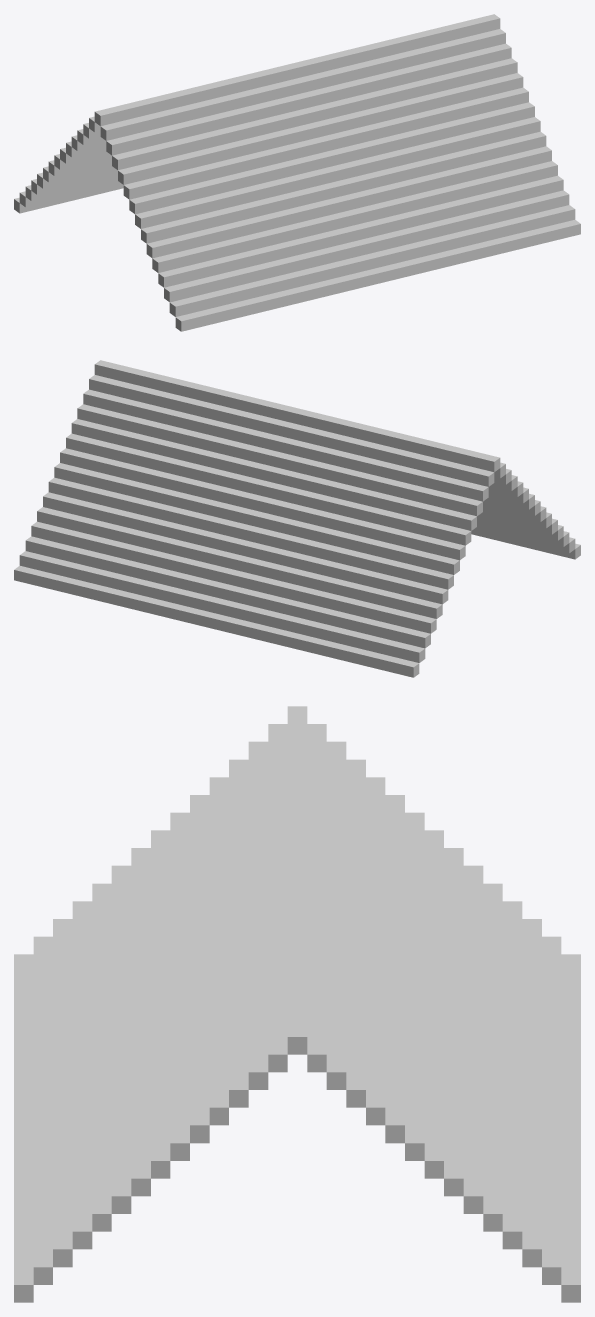
File: ConstructionMaterials-26.obj
The picture shows the model from 3 angles, top to bottom: view 1: azimuth 30°, elevation 25°; view 2: azimuth 150°, elevation 25°; view 3: azimuth 270°, elevation 25°; orthographic projection. The views are drawn at different scales.
Size of the model in its own units: 4 by 1.5 by 2.9.
1 material, 1 textured.
